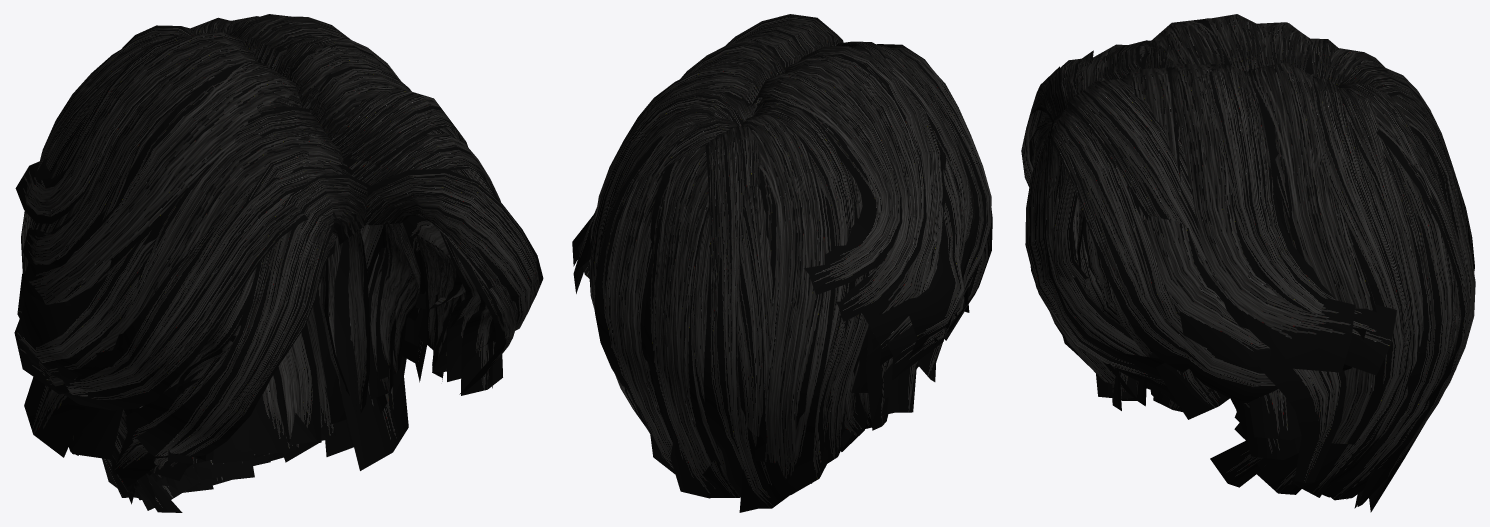
The model's file is Hair_6.fbx.
3 views of the same model, side by side, from view 1: azimuth 30°, elevation 25°; view 2: azimuth 150°, elevation 25°; view 3: azimuth 270°, elevation 25° (orthographic). The views are drawn at different scales.
Parts seen in each view (by area): view 1: avaturn_hair_1, avaturn_hair_0; view 2: avaturn_hair_1, avaturn_hair_0; view 3: avaturn_hair_1, avaturn_hair_0.
Boxes of the visible parts, x1,y1,x2,y2 form: avaturn_hair_1: (14, 14, 543, 510); avaturn_hair_0: (57, 25, 480, 512); avaturn_hair_1: (572, 14, 992, 512); avaturn_hair_0: (705, 92, 974, 483); avaturn_hair_1: (1021, 14, 1475, 512); avaturn_hair_0: (1076, 62, 1419, 499).
Size of the model in its own units: 23.95 by 26.91 by 24.46.
